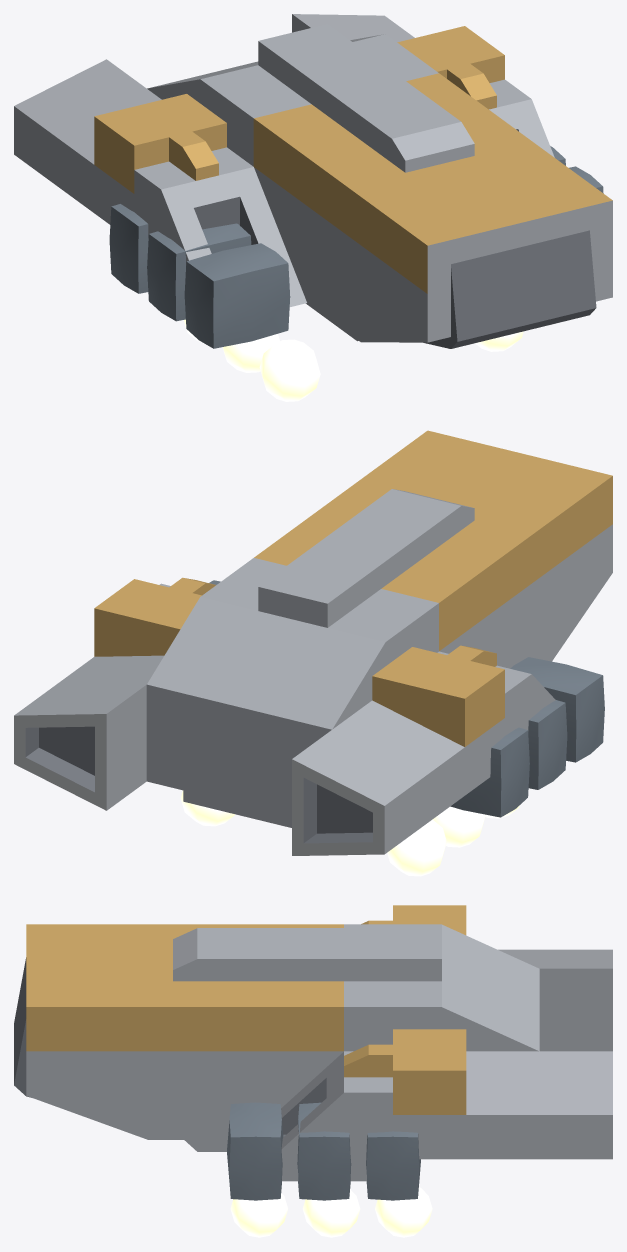
File: enemy_bomber.glb
3 views of the same model, one above another, from view 1: azimuth 30°, elevation 25°; view 2: azimuth 150°, elevation 25°; view 3: azimuth 270°, elevation 25° (orthographic). The views are drawn at different scales.
Parts seen in each view (by area): view 1: enemy_bomber; view 2: enemy_bomber; view 3: enemy_bomber.
Boxes of the visible parts, x1=… form: enemy_bomber: x1=14, y1=14, x2=612, y2=401; enemy_bomber: x1=14, y1=430, x2=612, y2=876; enemy_bomber: x1=14, y1=905, x2=612, y2=1237.
Bounding box in the file's own units: 1.16 × 0.7509 × 1.66.
